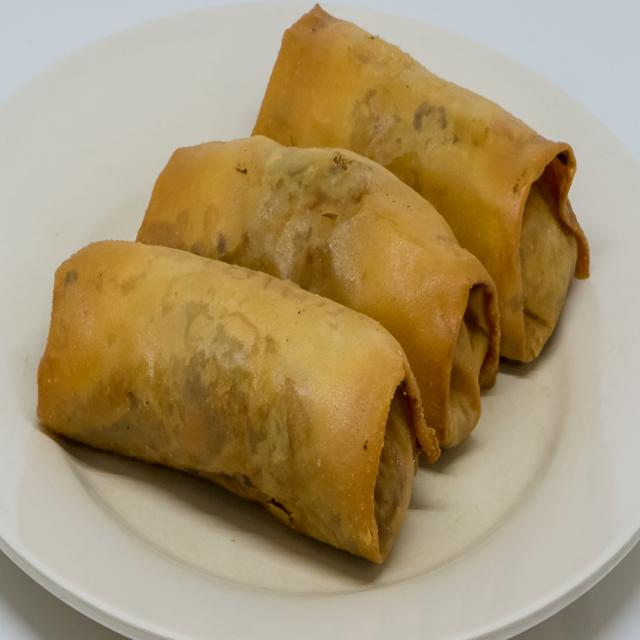Lumpia-Semarang: (28, 4, 602, 579)
